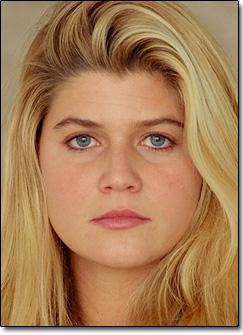Sober: (50, 72, 189, 255)
